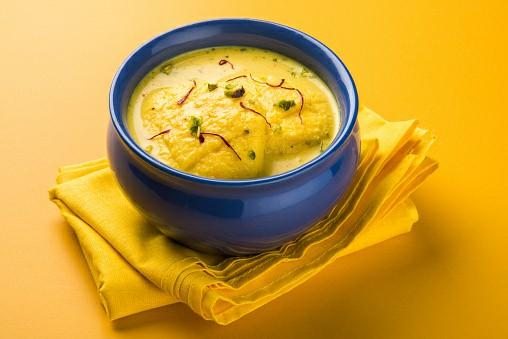RasMalai: (126, 47, 341, 181)
